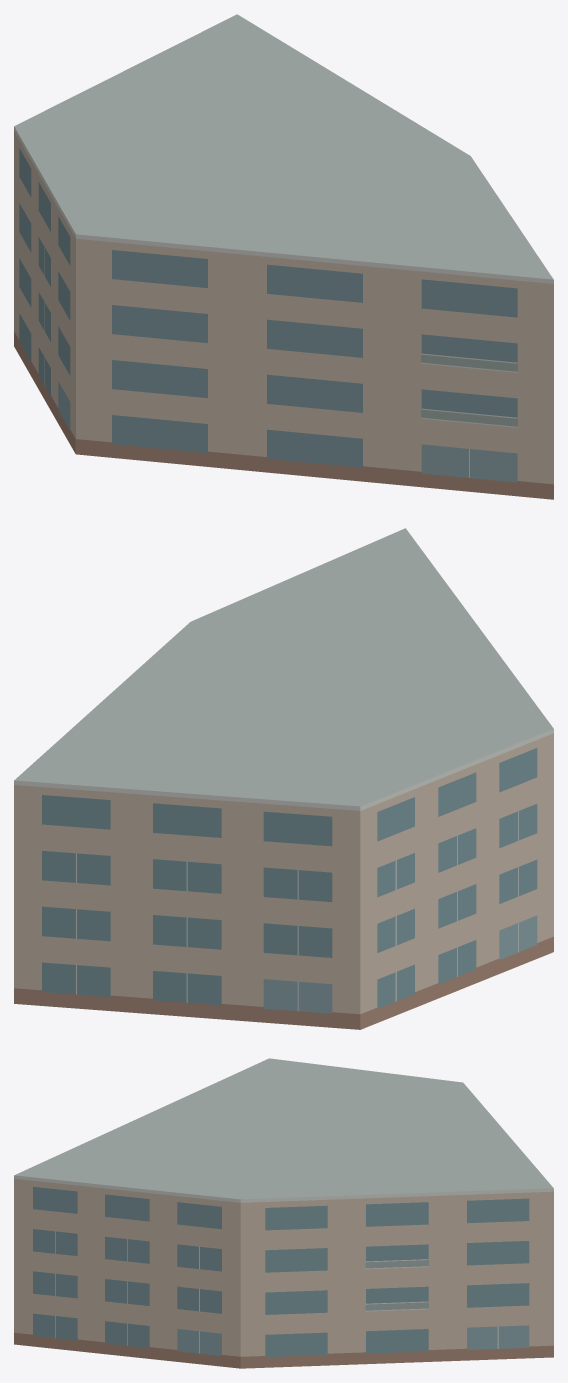
File: survey-upis-32653373.glb
3 renders of one model, top to bottom at view 1: azimuth 30°, elevation 25°; view 2: azimuth 150°, elevation 25°; view 3: azimuth 270°, elevation 25°, orthographic. The views are drawn at different scales.
Visible parts, largest first — view 1: survey-upis-32653373.tmp; view 2: survey-upis-32653373.tmp; view 3: survey-upis-32653373.tmp.
Boxes of the visible parts, x1=… form: survey-upis-32653373.tmp: x1=14, y1=14, x2=553, y2=499; survey-upis-32653373.tmp: x1=14, y1=528, x2=553, y2=1029; survey-upis-32653373.tmp: x1=14, y1=1058, x2=553, y2=1368.
Bounding box in the file's own units: 21.85 × 12.2 × 35.3.
